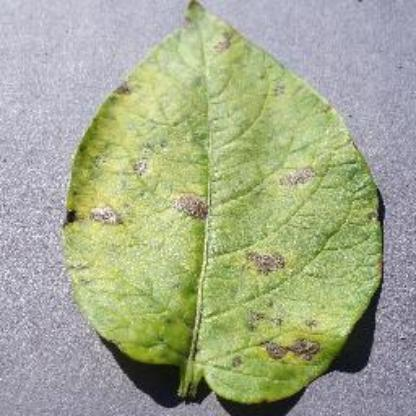Early-Blight: (56, 2, 390, 406)
